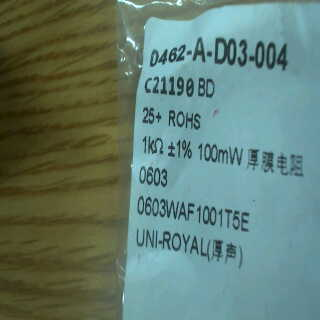1kR: (138, 134, 168, 160)
